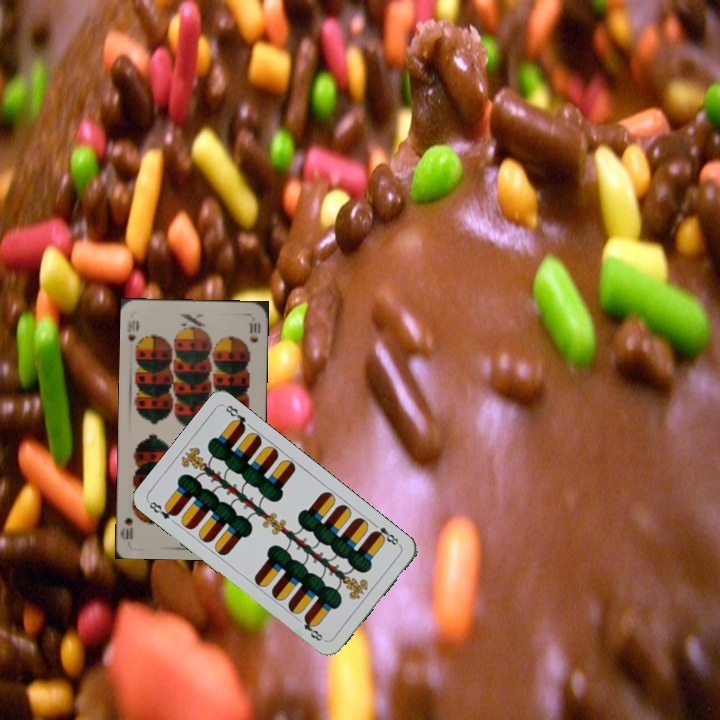E8: (368, 519, 403, 549), (145, 497, 180, 522)
S10: (123, 316, 142, 354)
